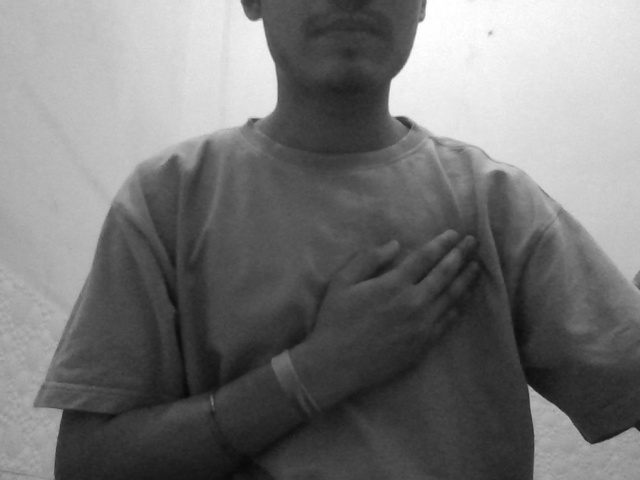Sorry: (264, 227, 534, 401)
